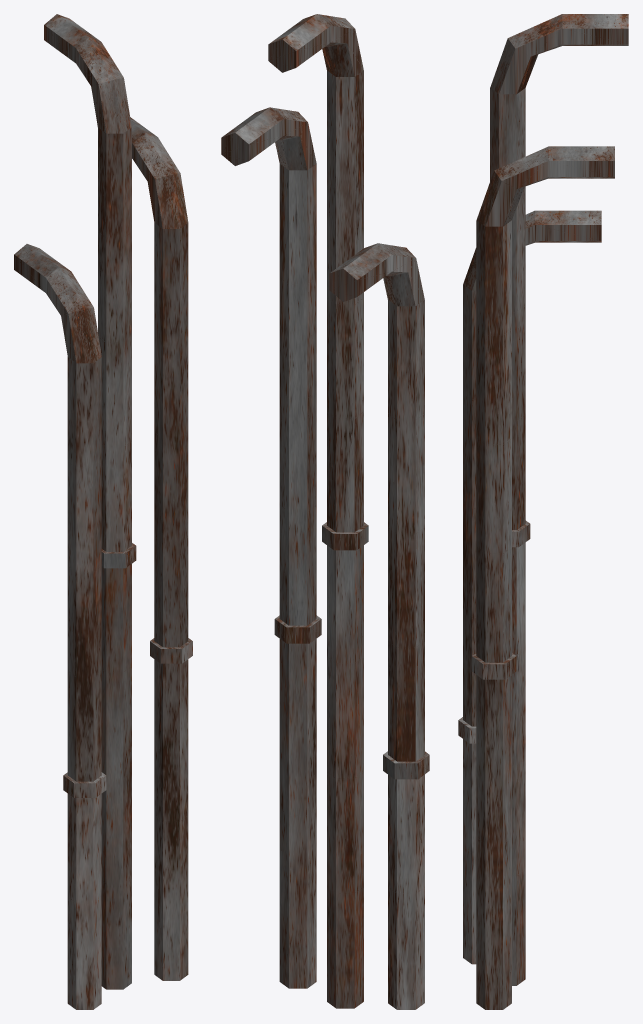
File: Tuberia.fbx
3 views of the same model, side by side, from view 1: azimuth 30°, elevation 25°; view 2: azimuth 150°, elevation 25°; view 3: azimuth 270°, elevation 25° (orthographic). The views are drawn at different scales.
Parts seen in each view (by area): view 1: Cylinder; view 2: Cylinder; view 3: Cylinder.
Part boxes in pixels (bbox=[...]): Cylinder: bbox=[14, 14, 192, 1009]; Cylinder: bbox=[221, 14, 429, 1009]; Cylinder: bbox=[458, 14, 628, 1009].
Bounding box in the file's own units: 142 × 1007 × 161.
